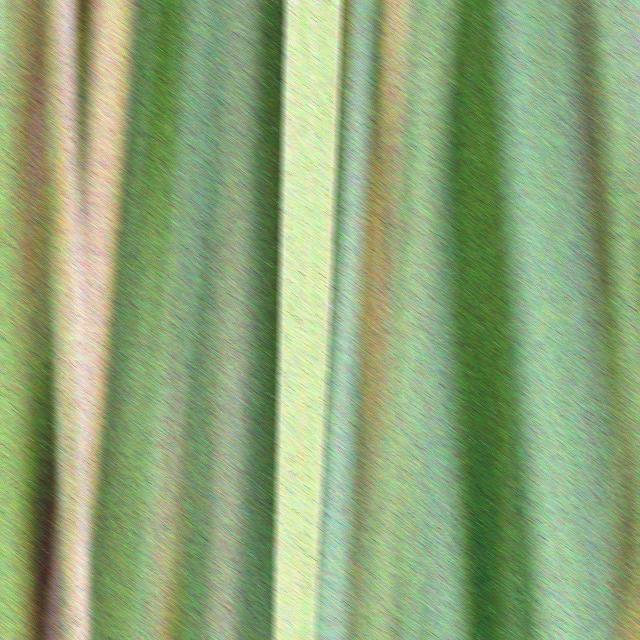BLS: (293, 0, 318, 639), (278, 0, 298, 640), (321, 6, 337, 443), (323, 0, 329, 137), (300, 0, 305, 46)
